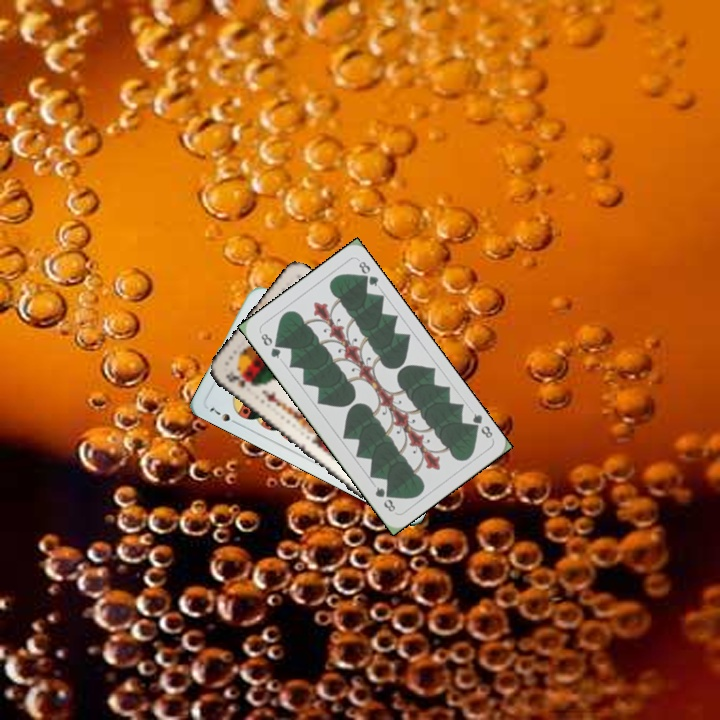G8: (465, 409, 495, 441), (256, 329, 283, 361)
S7: (205, 403, 242, 427)
SK: (222, 368, 251, 390)
